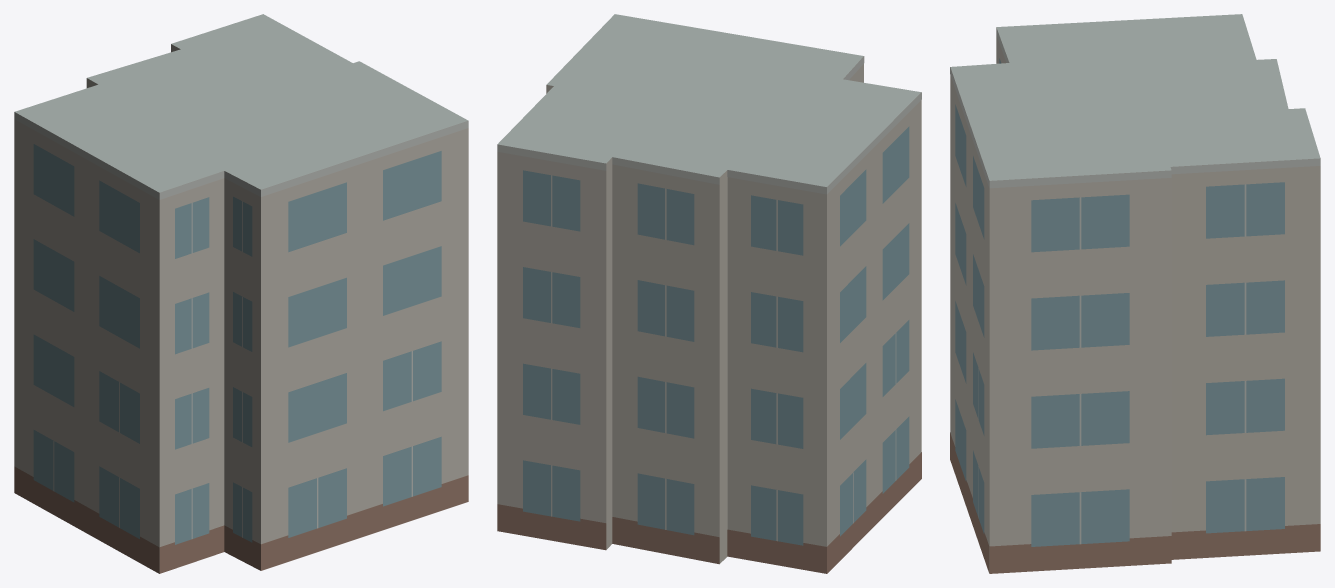
The model's file is survey-upis-32688347.glb.
The picture shows the model from 3 angles, left to right: view 1: azimuth 30°, elevation 25°; view 2: azimuth 150°, elevation 25°; view 3: azimuth 270°, elevation 25°; orthographic projection. The views are drawn at different scales.
Parts seen in each view (by area): view 1: survey-upis-32688347.tmp; view 2: survey-upis-32688347.tmp; view 3: survey-upis-32688347.tmp.
Part boxes in pixels (box(x1,y1,x2,y2)): survey-upis-32688347.tmp: box(14, 14, 468, 573); survey-upis-32688347.tmp: box(497, 14, 921, 573); survey-upis-32688347.tmp: box(950, 14, 1320, 573).
Size of the model in its own units: 11.68 by 12.81 by 10.95.
